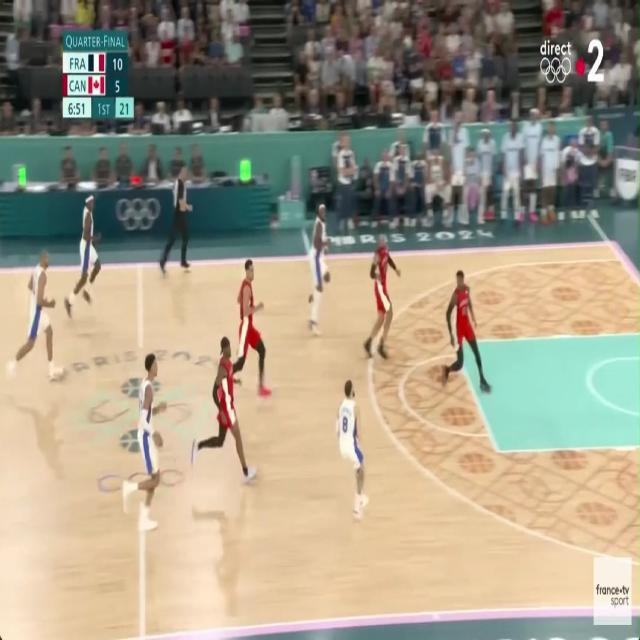ball_handler: (335, 379, 366, 521)
